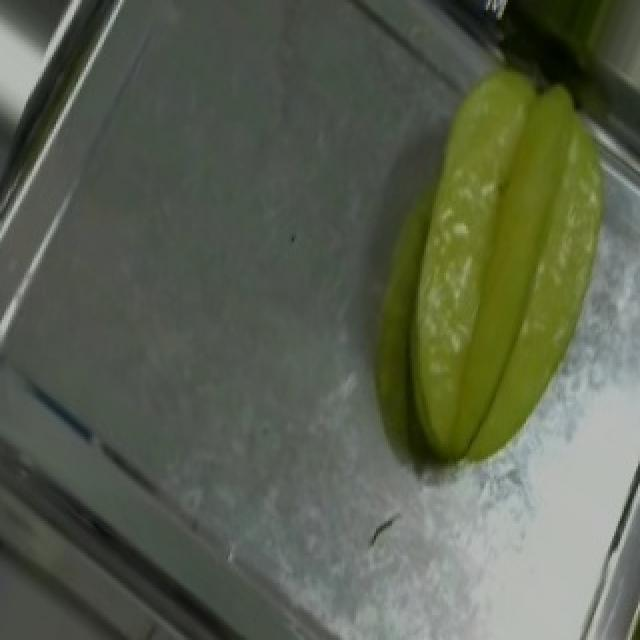fruit: (370, 39, 640, 427)
